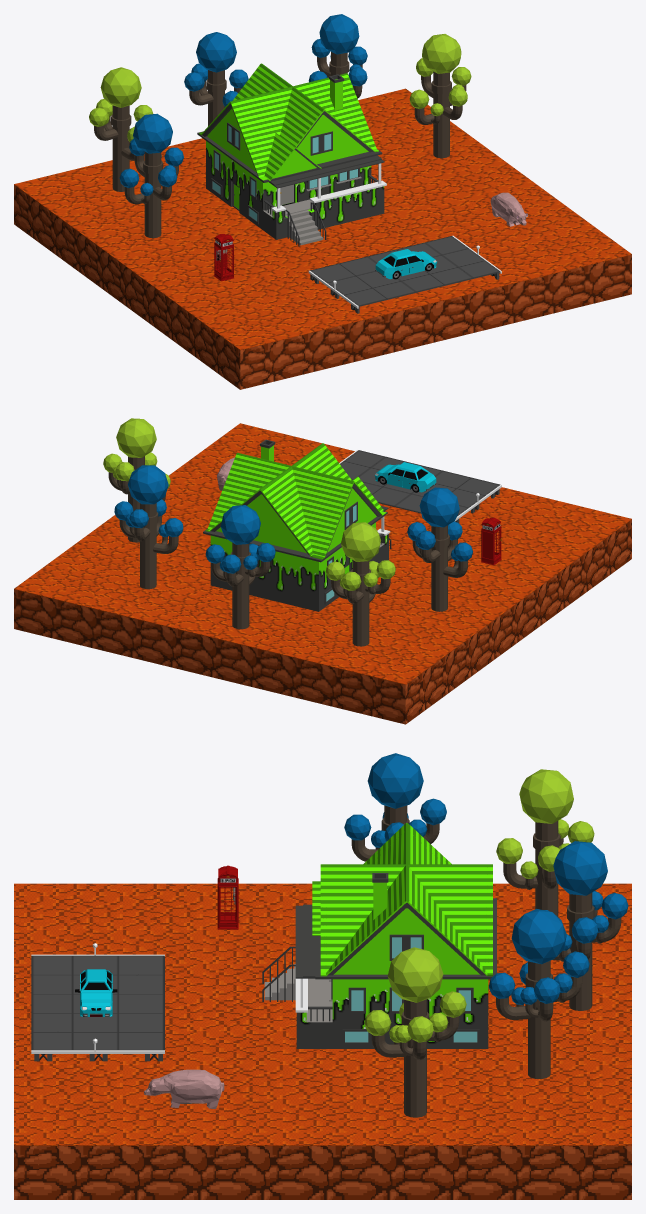
3 renders of one model, top to bottom at view 1: azimuth 30°, elevation 25°; view 2: azimuth 150°, elevation 25°; view 3: azimuth 270°, elevation 25°, orthographic. The views are drawn at different scales.
Visible parts, largest first — view 1: Cube.001, Cube.754, VEHICLES_CAR, OBJRANDOM_PHONEBOOTH, ANIMAL_HIPOPOTAMO; view 2: Cube.001, Cube.754, VEHICLES_CAR, OBJRANDOM_PHONEBOOTH; view 3: Cube.001, Cube.754, ANIMAL_HIPOPOTAMO, VEHICLES_CAR, OBJRANDOM_PHONEBOOTH.
Part boxes in pixels (box(x1,y1,x2,y2)): Cube.001: box(14, 14, 631, 389); Cube.754: box(197, 63, 386, 246); VEHICLES_CAR: box(375, 249, 436, 279); OBJRANDOM_PHONEBOOTH: box(213, 234, 233, 281); ANIMAL_HIPOPOTAMO: box(490, 192, 527, 226); Cube.001: box(14, 418, 631, 724); Cube.754: box(203, 439, 391, 611); VEHICLES_CAR: box(374, 462, 436, 492); OBJRANDOM_PHONEBOOTH: box(481, 517, 501, 565); Cube.001: box(14, 753, 631, 1199); Cube.754: box(262, 823, 496, 1048); ANIMAL_HIPOPOTAMO: box(144, 1069, 224, 1108); VEHICLES_CAR: box(75, 969, 117, 1016); OBJRANDOM_PHONEBOOTH: box(217, 865, 238, 929).
Bounding box in the file's own units: 4000 × 1664 × 4000.
Materials: 45 (5 with a texture image).
